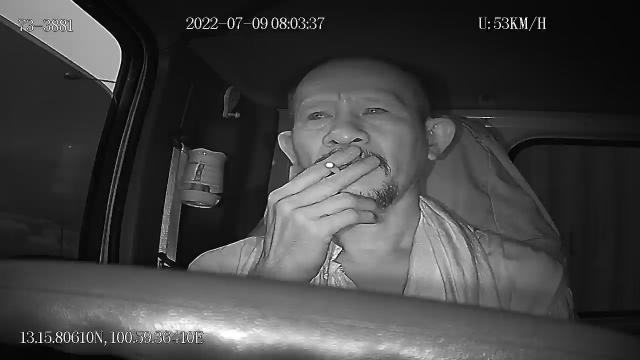SafeDriving: (298, 100, 338, 127), (354, 97, 397, 122)
Smoking: (324, 162, 340, 174)
